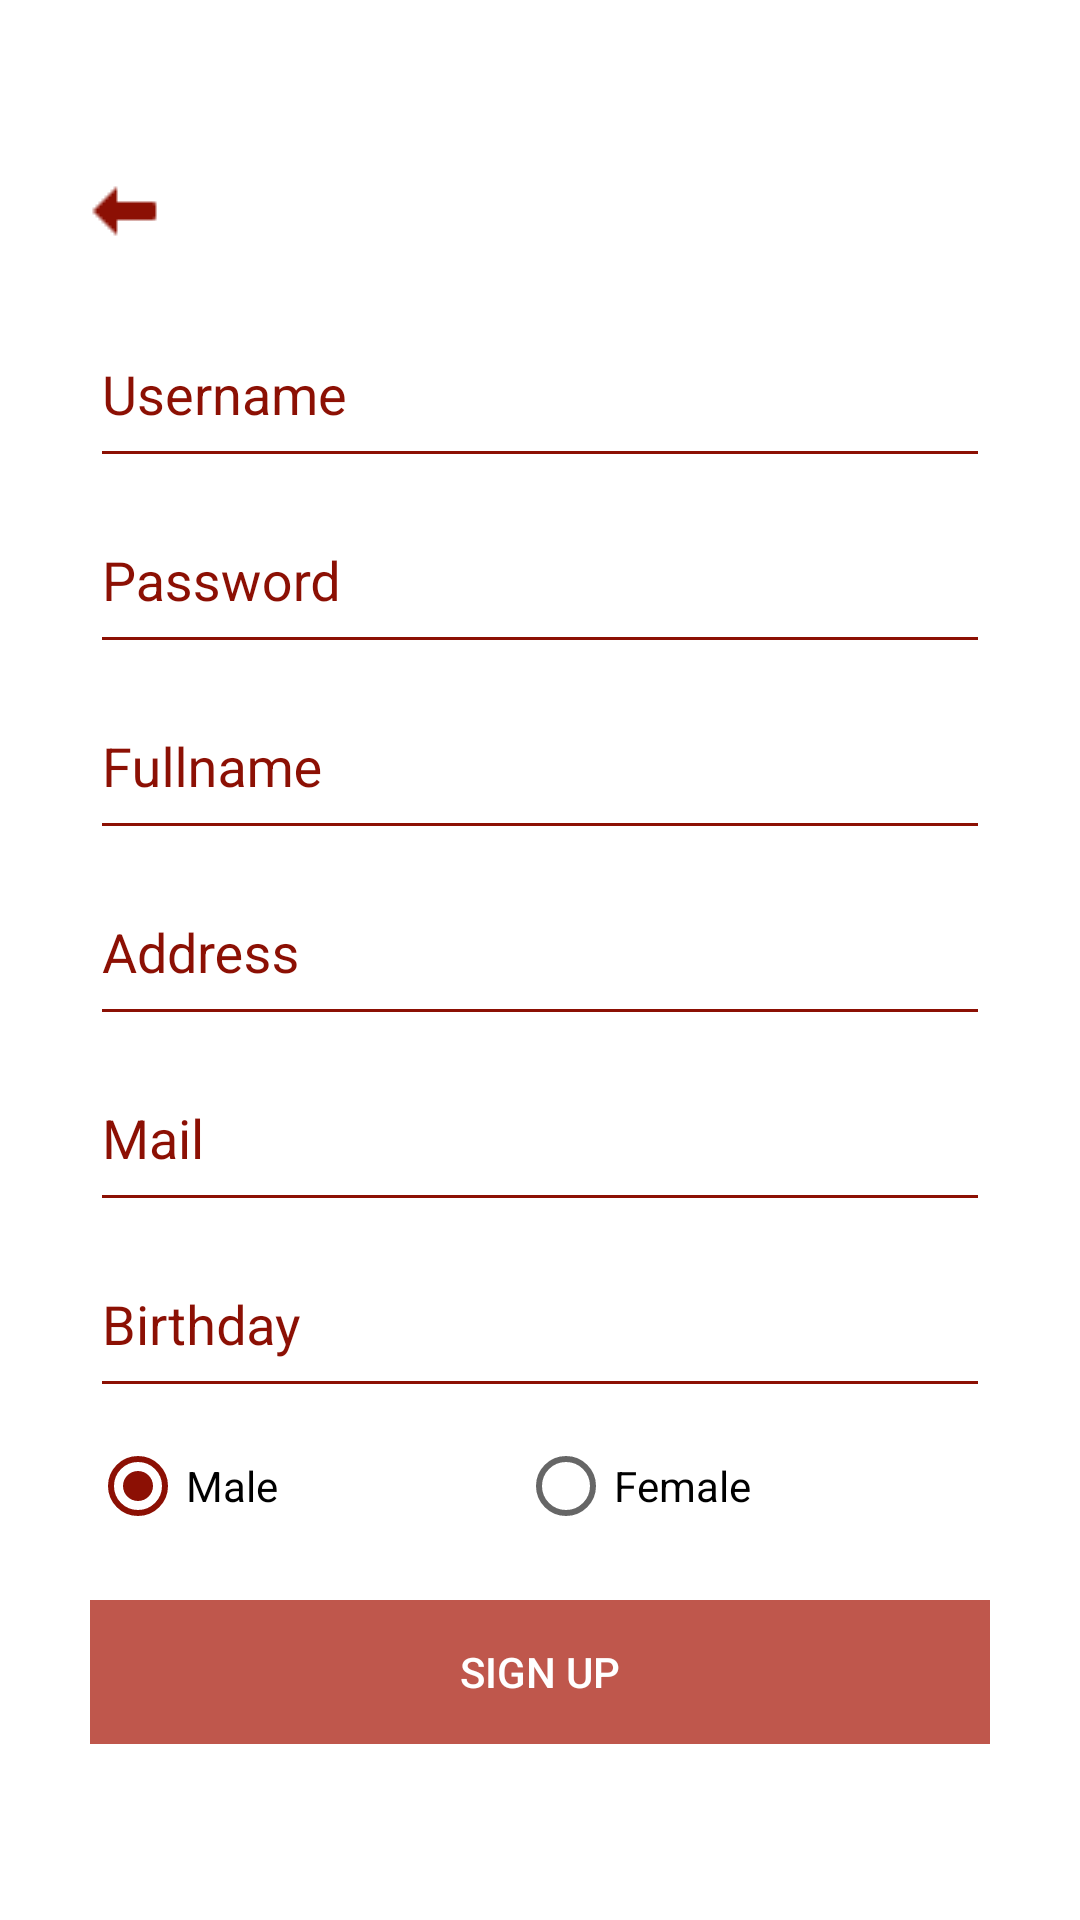

Screen size 1080x1920. Icon name, then its center in pixels as (x=x, y=y):
back: (x=124, y=211)
